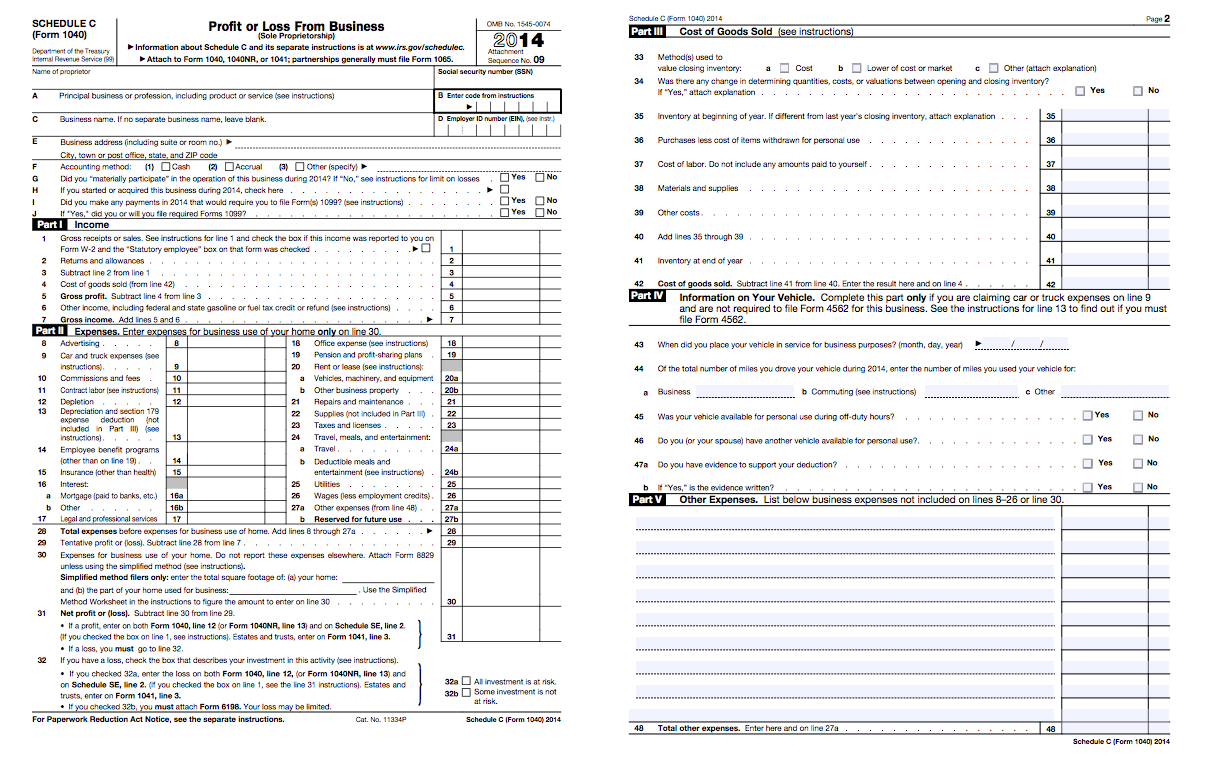checkbox: (778, 61, 791, 75), (850, 61, 863, 75), (987, 60, 1000, 74), (1073, 83, 1086, 97), (1131, 83, 1144, 97), (1131, 408, 1144, 422), (1081, 409, 1094, 423), (1081, 432, 1094, 446), (1081, 456, 1094, 470), (1131, 432, 1144, 446), (1131, 456, 1144, 470), (1131, 480, 1144, 494), (1081, 480, 1094, 494), (461, 673, 472, 687), (460, 685, 471, 699), (160, 160, 170, 172), (224, 160, 234, 172), (294, 160, 304, 172), (499, 171, 509, 183), (534, 171, 544, 183), (534, 194, 544, 206), (534, 206, 544, 218), (499, 206, 509, 218), (499, 194, 509, 206), (499, 183, 509, 195), (420, 242, 430, 254)
textbox: (27, 135, 564, 163), (29, 64, 437, 91), (29, 87, 437, 114), (29, 111, 437, 138), (458, 544, 548, 609), (233, 133, 562, 150), (236, 146, 565, 163), (431, 64, 564, 92), (432, 87, 565, 115), (433, 110, 566, 138), (183, 403, 268, 444), (459, 603, 544, 644), (1058, 119, 1152, 148), (1058, 144, 1152, 173), (1058, 167, 1152, 196), (1058, 191, 1152, 220), (1058, 215, 1152, 244), (1058, 239, 1152, 268), (1058, 262, 1152, 291), (1058, 503, 1152, 532), (1058, 526, 1152, 555), (1059, 551, 1153, 580), (1059, 575, 1153, 604), (1057, 599, 1151, 628), (1060, 623, 1154, 652), (1058, 647, 1152, 676), (1057, 671, 1151, 700), (1058, 695, 1152, 724), (182, 440, 268, 469), (459, 227, 542, 255), (185, 346, 268, 374), (185, 474, 268, 502), (459, 428, 542, 456), (462, 357, 545, 385), (460, 450, 543, 478), (1058, 718, 1150, 737), (535, 545, 562, 608), (1059, 107, 1150, 124), (459, 251, 544, 269), (459, 262, 544, 280), (458, 273, 543, 291), (458, 285, 543, 303), (458, 297, 543, 315), (458, 308, 543, 326), (458, 332, 543, 350), (458, 343, 543, 361), (458, 379, 543, 397), (457, 391, 542, 409), (457, 403, 542, 421), (457, 414, 542, 432), (457, 474, 542, 492), (458, 485, 543, 503), (459, 497, 544, 515), (460, 508, 545, 526), (458, 520, 543, 538), (460, 533, 545, 551), (183, 508, 268, 526), (184, 496, 269, 514), (184, 462, 269, 480), (182, 391, 267, 409), (183, 381, 268, 399), (183, 368, 268, 386), (182, 334, 267, 352), (537, 603, 562, 645), (263, 404, 288, 446), (535, 357, 567, 385), (536, 428, 568, 455), (536, 451, 568, 478), (1145, 503, 1173, 533), (1144, 526, 1172, 556), (1145, 551, 1173, 581), (1145, 575, 1173, 605), (1145, 598, 1173, 628), (1145, 623, 1173, 653), (1144, 647, 1172, 677), (1144, 670, 1172, 700), (1146, 695, 1174, 725), (537, 228, 564, 256), (1146, 263, 1172, 292), (1146, 238, 1172, 267), (1145, 214, 1171, 243), (1147, 191, 1173, 220), (1146, 166, 1172, 195), (1146, 143, 1172, 172), (1146, 118, 1172, 147), (261, 436, 286, 466), (263, 475, 288, 503), (263, 345, 288, 373), (1145, 718, 1176, 736), (537, 250, 565, 267), (536, 263, 564, 280), (536, 275, 564, 292), (536, 287, 564, 304), (536, 299, 564, 316), (536, 310, 564, 327), (537, 333, 565, 350), (537, 345, 565, 362), (536, 380, 564, 397), (536, 392, 564, 409), (536, 404, 564, 421), (536, 416, 564, 433), (537, 475, 565, 492), (536, 486, 564, 503), (537, 498, 565, 515), (535, 510, 563, 527), (536, 520, 564, 537), (537, 533, 565, 550), (264, 497, 288, 515), (264, 510, 288, 528), (263, 392, 287, 410), (264, 380, 288, 398), (264, 369, 288, 387), (264, 333, 288, 351), (1147, 106, 1172, 123), (263, 463, 288, 479)
textline: (631, 514, 1058, 533), (631, 537, 1058, 556), (630, 561, 1057, 580), (631, 585, 1058, 604), (632, 610, 1059, 629), (632, 634, 1059, 653), (632, 658, 1059, 677), (631, 682, 1058, 701), (629, 680, 1056, 699), (227, 582, 360, 597), (1060, 384, 1175, 400), (972, 336, 1073, 351), (694, 384, 795, 399), (921, 385, 1022, 400), (339, 569, 437, 584)
